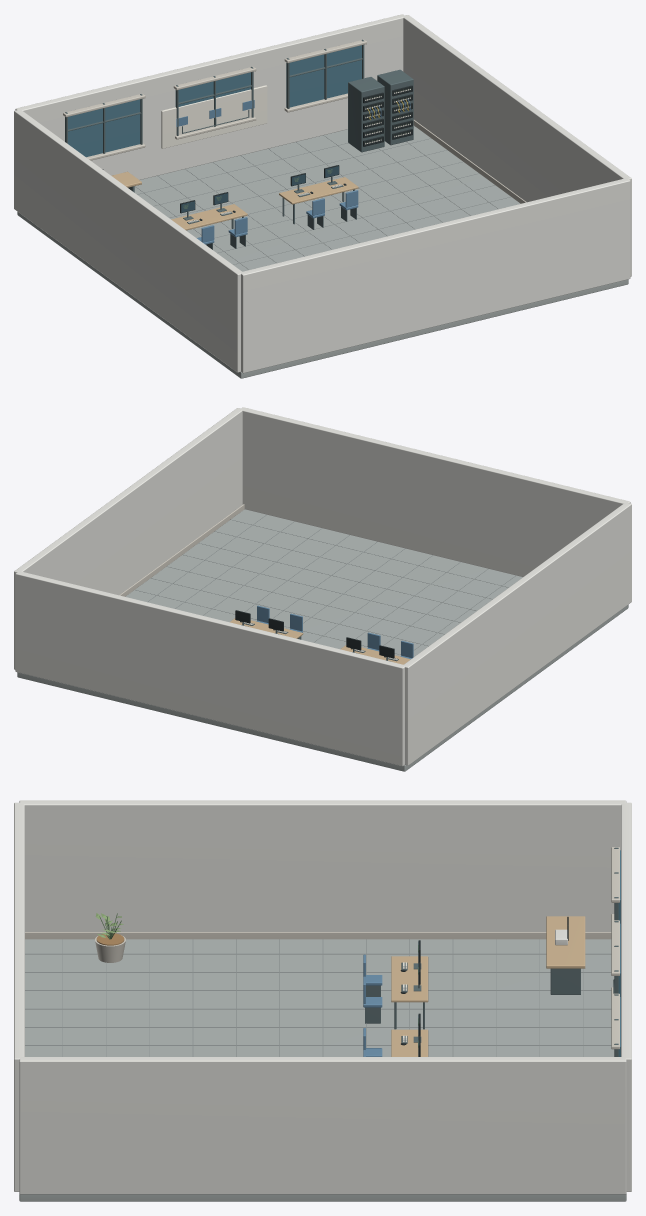
Rendered from network.glb.
The picture shows the model from 3 angles, top to bottom: view 1: azimuth 30°, elevation 25°; view 2: azimuth 150°, elevation 25°; view 3: azimuth 270°, elevation 25°; orthographic projection. The views are drawn at different scales.
Visible parts, largest first — view 1: white, paving, glass, metal, paper, stone, grout, oak, black, blue; view 2: white, paving, grout, blue, stone, oak, black; view 3: white, paving, stone, grout, oak, metal, blue.
Boxes of the visible parts, box(x1,y1,x2,y2) form: white: box(14, 14, 631, 373); paving: box(17, 126, 628, 378); glass: box(68, 45, 361, 157); metal: box(65, 39, 413, 249); paper: box(161, 85, 410, 222); stone: box(63, 39, 526, 203); grout: box(135, 126, 510, 269); oak: box(111, 171, 358, 230); black: box(102, 85, 412, 220); blue: box(176, 99, 410, 244); white: box(14, 407, 631, 766); paving: box(17, 509, 628, 771); grout: box(135, 514, 515, 654); blue: box(256, 605, 413, 658); stone: box(119, 504, 244, 596); oak: box(230, 618, 410, 664); black: box(235, 610, 394, 658); white: box(14, 800, 631, 1194); paving: box(19, 939, 626, 1201); stone: box(25, 847, 619, 1049); grout: box(25, 939, 611, 1056); oak: box(391, 916, 585, 1056); metal: box(365, 847, 618, 1056); blue: box(363, 954, 382, 1056).
Bounding box in the file's own units: 14.25 × 3.64 × 14.25.
